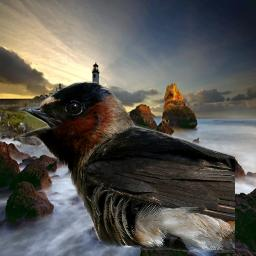Swallow: (17, 81, 235, 253)
